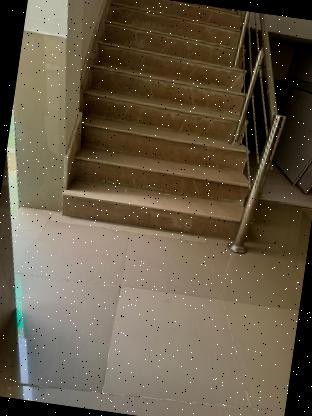stair: (61, 0, 273, 248)
